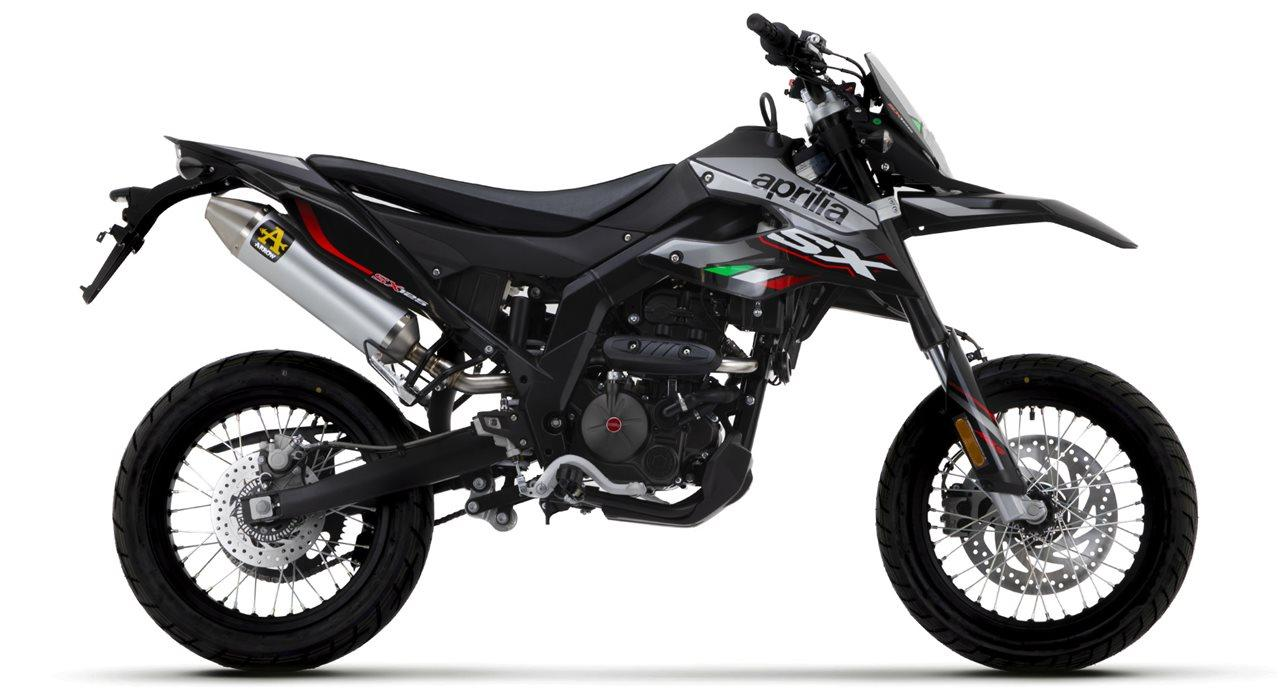engine-chasis: (464, 199, 785, 532)
exhaust: (205, 196, 512, 393), (588, 335, 759, 375)
frontside: (595, 52, 1140, 526)
handlebar: (746, 13, 884, 139)
motorbike: (82, 12, 1199, 672)
rearside: (81, 135, 649, 524)
seat: (307, 153, 676, 234)
tank: (688, 92, 806, 158)
wheel: (112, 351, 435, 673), (876, 353, 1200, 674), (945, 325, 989, 363), (867, 290, 909, 320), (434, 510, 467, 525)
